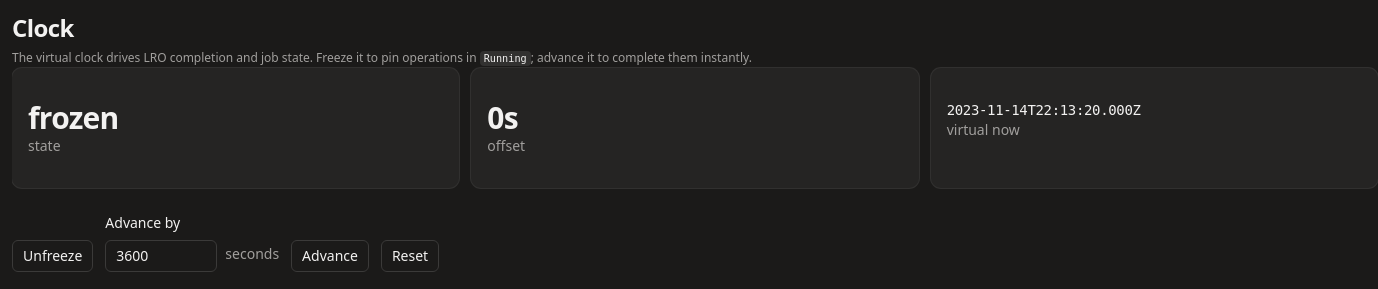
Test case: Clock › advances by the entered amount
The width and height of the screenshot is (1378, 289).
Expected: the text "frozen" is shown, [28,97,118,138]
Replace the text in the number field with "601" at (161, 256), box [105,240,217,272]
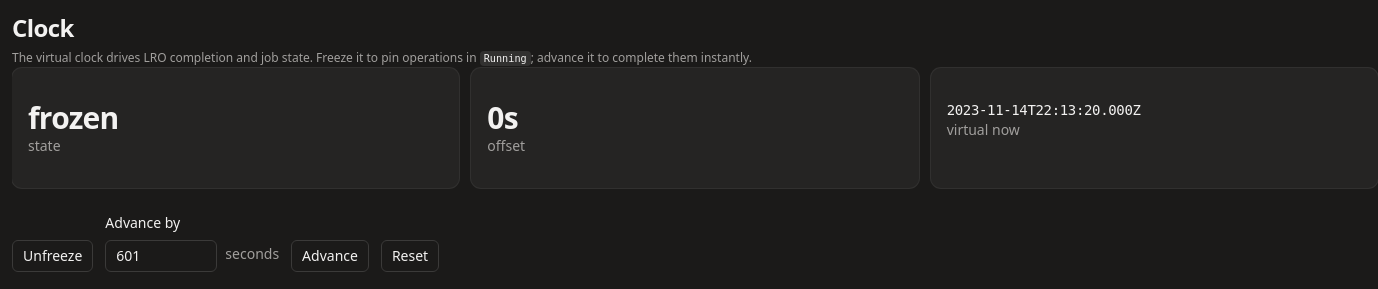
Click the button "Advance" at (330, 256), box [291,240,369,272]
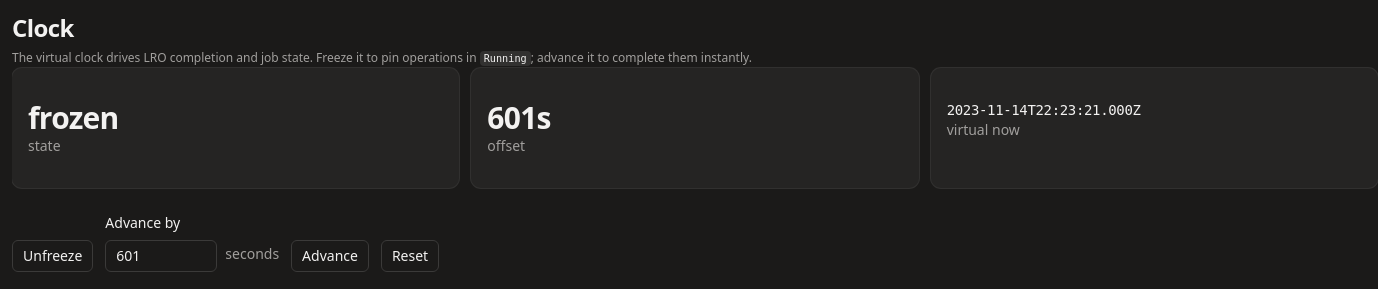
Now the text "601s" is shown, box [487,97,551,138]
